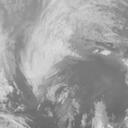cyclone: (22, 28, 70, 89)
